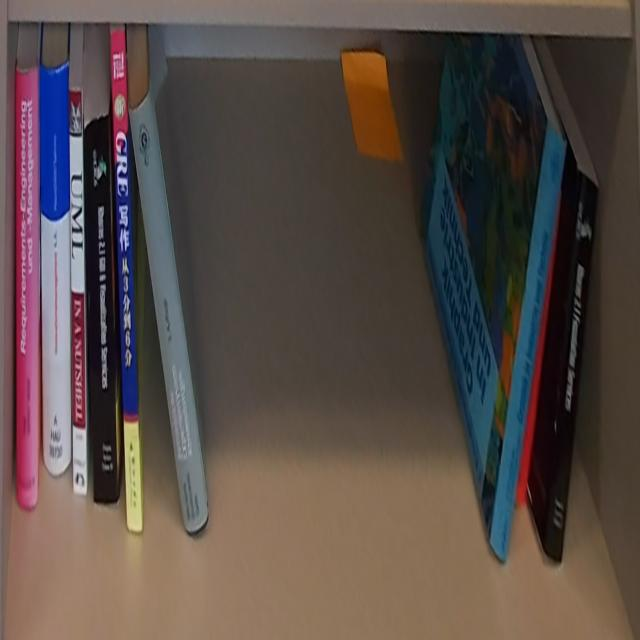Book Spine: (489, 119, 568, 564), (130, 91, 205, 534), (544, 168, 599, 567), (108, 27, 143, 536), (81, 114, 119, 509), (39, 60, 71, 480), (14, 61, 39, 506), (69, 89, 86, 499)
